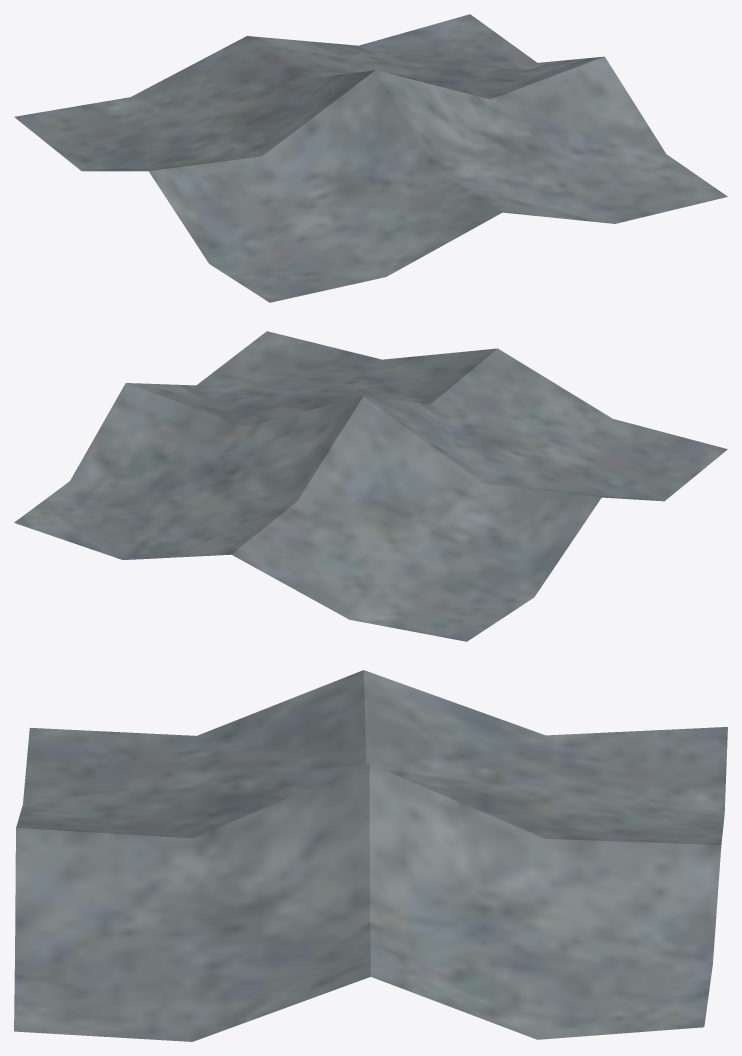
The model's file is poi_all_tent_large_l3.fbx.
3 views of the same model, one above another, from view 1: azimuth 30°, elevation 25°; view 2: azimuth 150°, elevation 25°; view 3: azimuth 270°, elevation 25° (orthographic). The views are drawn at different scales.
Visible parts, largest first — view 1: mesh_node; view 2: mesh_node; view 3: mesh_node.
Part boxes in pixels (<box>): mesh_node: <box>14,14,727,302</box>; mesh_node: <box>14,331,727,641</box>; mesh_node: <box>14,670,727,1041</box>.
Size of the model in its own units: 10.83 by 2.1 by 10.58.
1 material, 1 textured.
